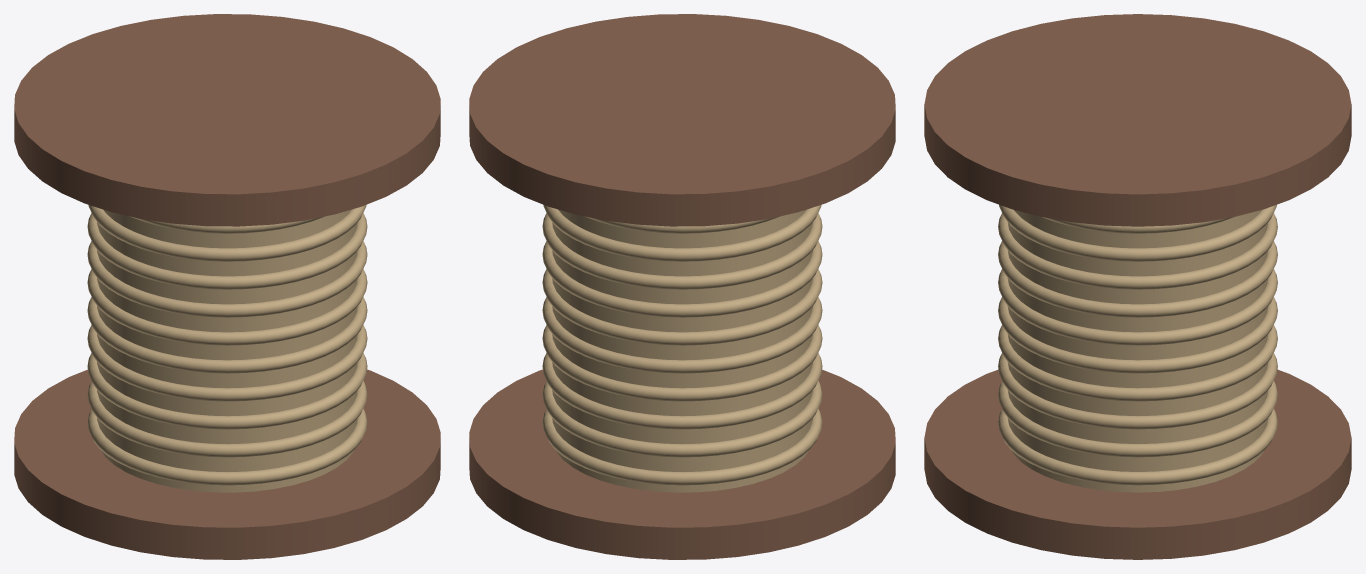
Rendered from griffin-airmail-roost-and-posthouse-twine-spool-9ce1d5c1__30524.glb.
The picture shows the model from 3 angles, left to right: view 1: azimuth 30°, elevation 25°; view 2: azimuth 150°, elevation 25°; view 3: azimuth 270°, elevation 25°; orthographic projection.
Visible parts, largest first — view 1: twine-spool; view 2: twine-spool; view 3: twine-spool.
Boxes of the visible parts, x1,y1,x2,y2 form: twine-spool: (14,14,440,559); twine-spool: (469,14,895,559); twine-spool: (924,14,1351,559).
Bounding box in the file's own units: 0.18 × 0.17 × 0.18.
